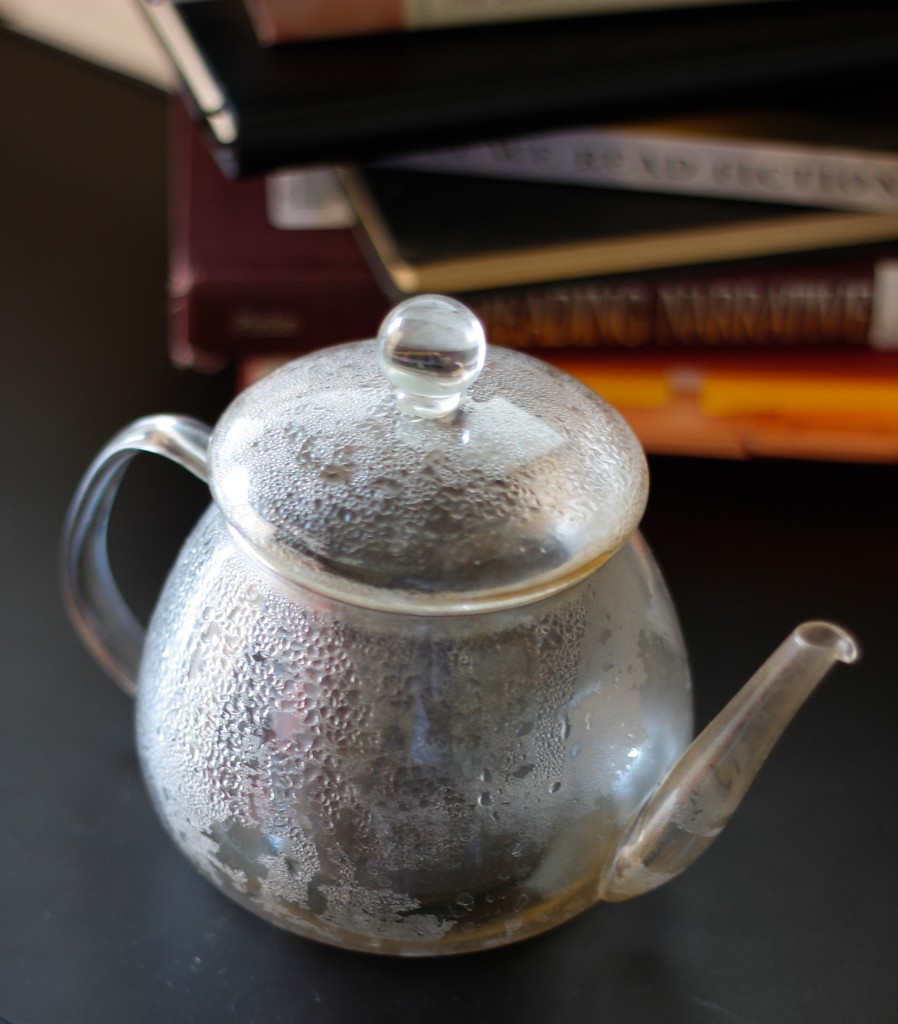teapot: (59, 293, 856, 957)
